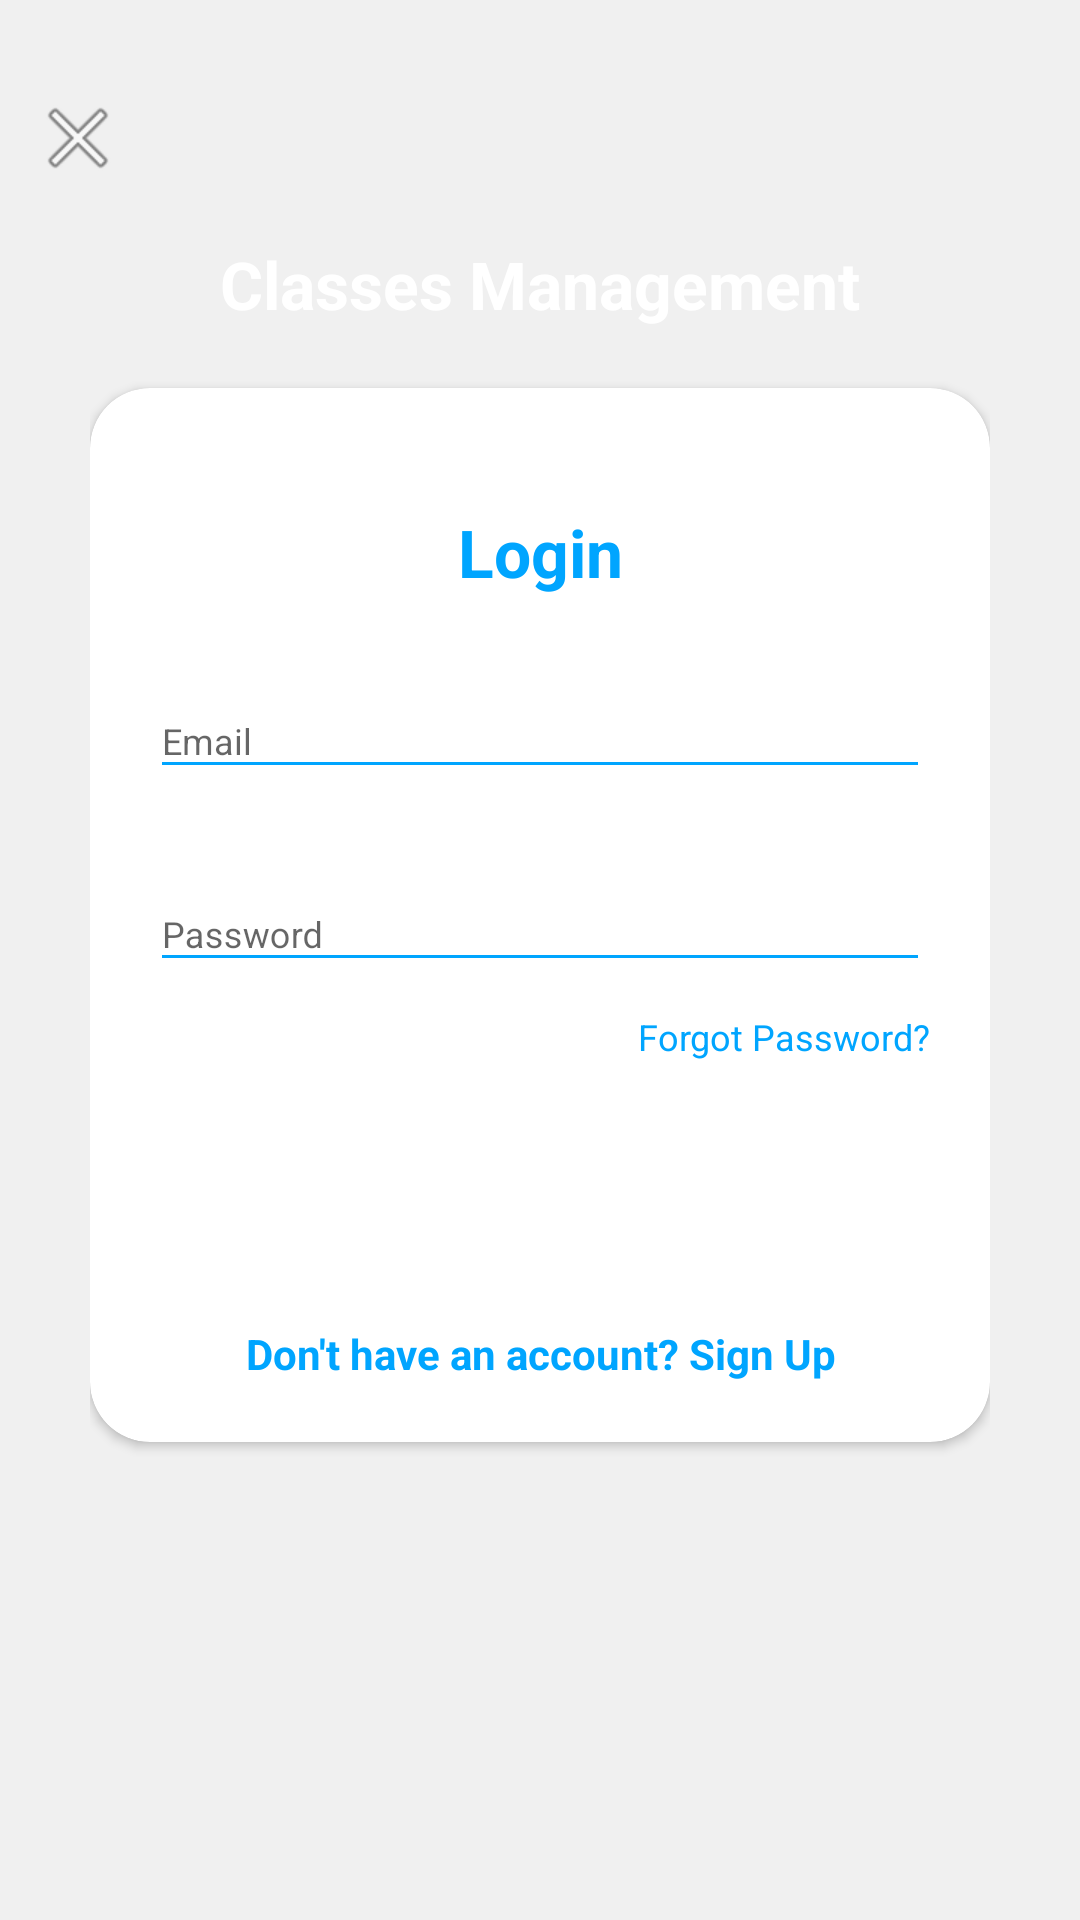

Point at icon controls on the screen. Image size 1080 × 1920, points as (x,y).
close clear cancel: (78,138)
